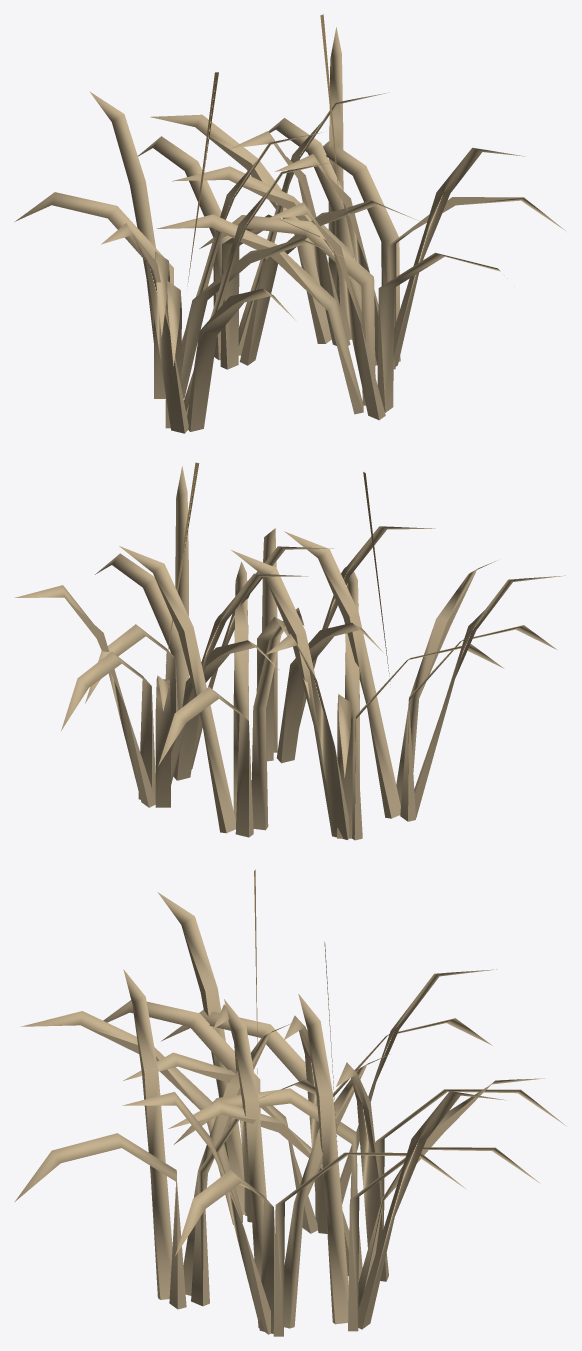
Rendered from ds_bush_dry.glb.
3 renders of one model, top to bottom at view 1: azimuth 30°, elevation 25°; view 2: azimuth 150°, elevation 25°; view 3: azimuth 270°, elevation 25°, orthographic. The views are drawn at different scales.
Visible parts, largest first — view 1: ds_bush_dry; view 2: ds_bush_dry; view 3: ds_bush_dry.
Part boxes in pixels (x1,y1,x2,y2): ds_bush_dry: [15, 14, 566, 433]; ds_bush_dry: [14, 462, 565, 840]; ds_bush_dry: [15, 869, 565, 1336].
Size of the model in its own units: 1.58 by 1.09 by 1.49.
